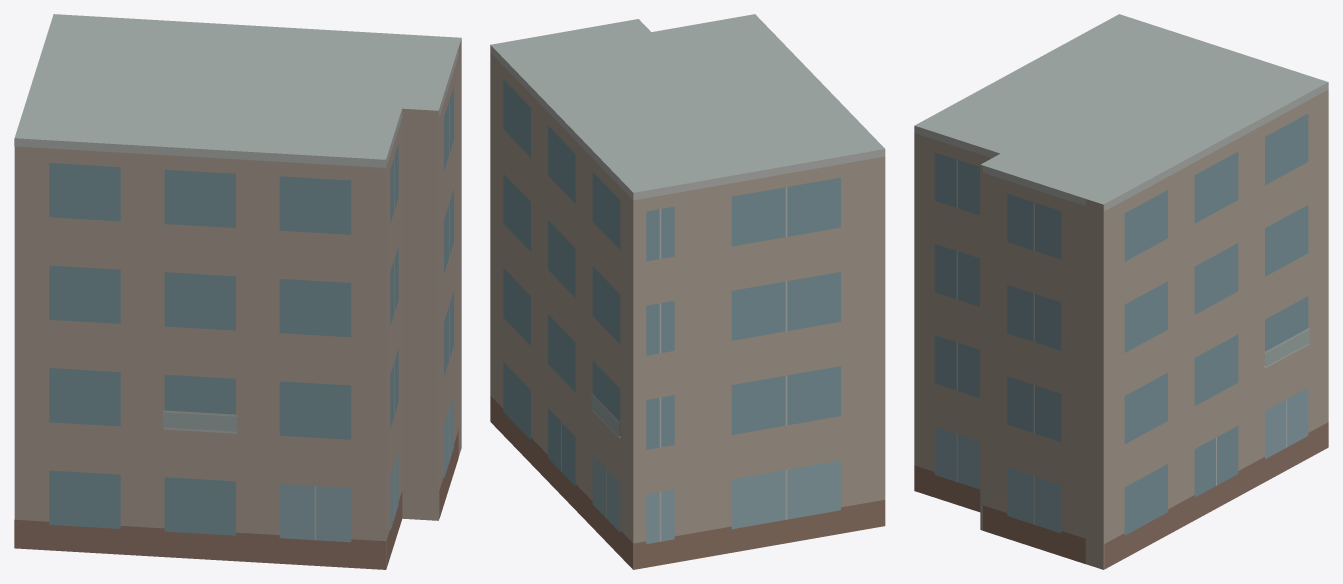
The model's file is survey-upis-32968772.glb.
3 renders of one model, left to right at view 1: azimuth 30°, elevation 25°; view 2: azimuth 150°, elevation 25°; view 3: azimuth 270°, elevation 25°, orthographic. The views are drawn at different scales.
Visible parts, largest first — view 1: survey-upis-32968772.tmp; view 2: survey-upis-32968772.tmp; view 3: survey-upis-32968772.tmp.
Boxes of the visible parts, x1=… form: survey-upis-32968772.tmp: x1=14, y1=14, x2=461, y2=569; survey-upis-32968772.tmp: x1=490, y1=14, x2=885, y2=569; survey-upis-32968772.tmp: x1=914, y1=14, x2=1328, y2=569.
Bounding box in the file's own units: 13.65 × 12.2 × 12.54.
